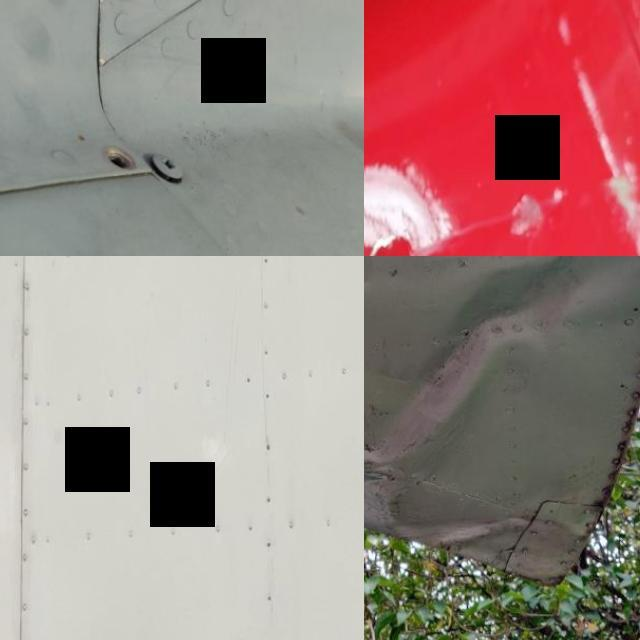Crack: (364, 131, 559, 256), (364, 432, 381, 458)
Dent: (383, 256, 640, 485)
Missing_Fastener: (81, 115, 165, 194)
